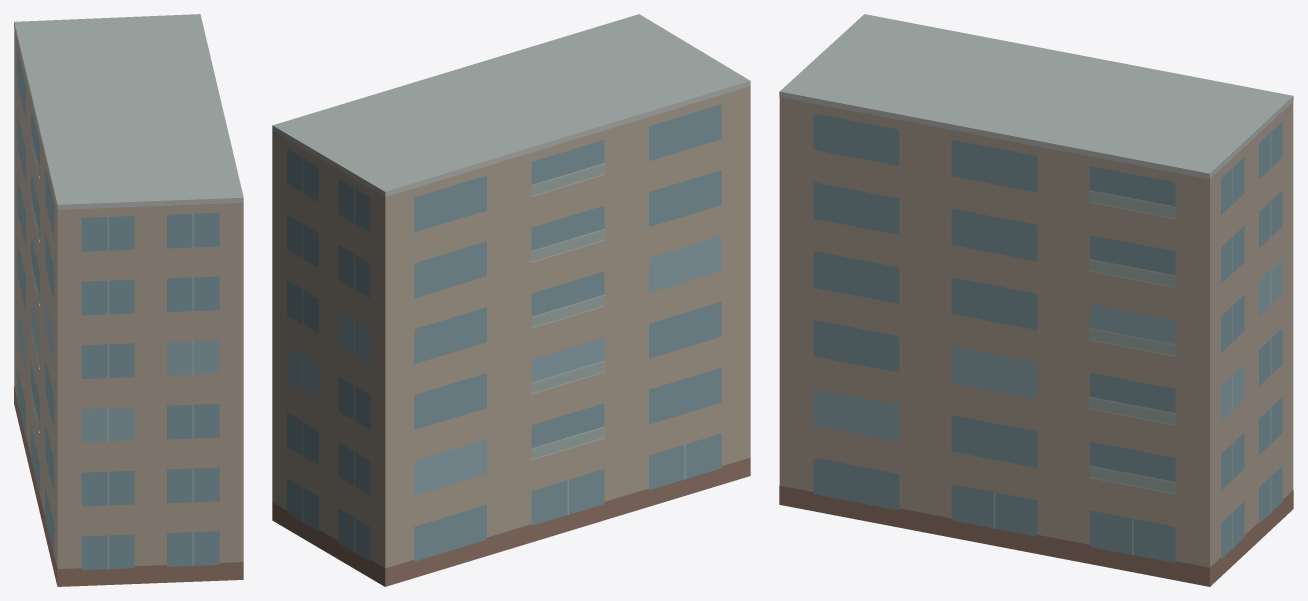
File: survey-upis-32551096.glb
3 renders of one model, left to right at view 1: azimuth 30°, elevation 25°; view 2: azimuth 150°, elevation 25°; view 3: azimuth 270°, elevation 25°, orthographic. The views are drawn at different scales.
Visible parts, largest first — view 1: survey-upis-32551096.tmp; view 2: survey-upis-32551096.tmp; view 3: survey-upis-32551096.tmp.
Boxes of the visible parts, x1,y1,x2,y2 form: survey-upis-32551096.tmp: (14, 14, 243, 586); survey-upis-32551096.tmp: (272, 14, 750, 586); survey-upis-32551096.tmp: (779, 14, 1293, 586).
Size of the model in its own units: 15.18 by 18.3 by 20.64.
